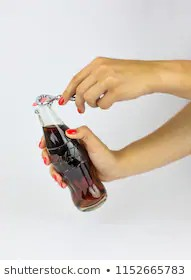coke-glass-bottle: (29, 79, 103, 213)
